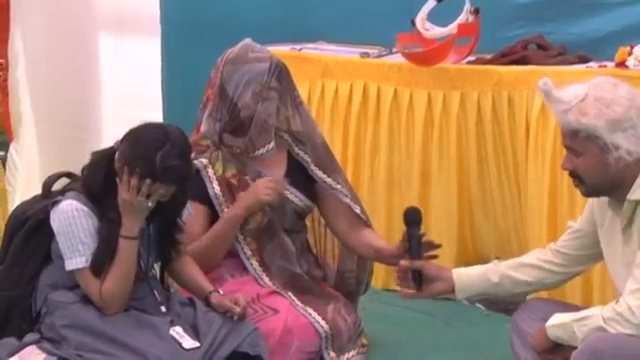helmet_off: (540, 76, 640, 207), (202, 48, 315, 158), (110, 124, 192, 212)
person: (175, 44, 439, 355), (394, 70, 639, 360), (0, 123, 267, 359)
